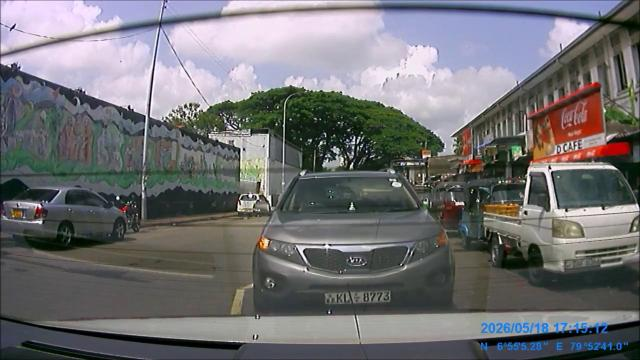number plate: (322, 289, 401, 307)
